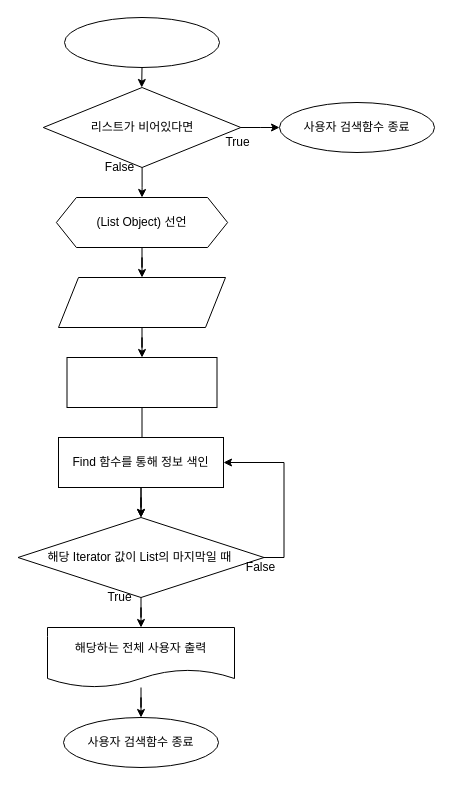
This 452x785 diagram has some shape labels left out. Each missing label, with the centre of its shape:
"List Object에 전달" belongs at pixel 141 382.
"검색하고 싶은 정보 입력" belongs at pixel 142 302.
"사용자 검색함수 호출" belongs at pixel 142 42.
